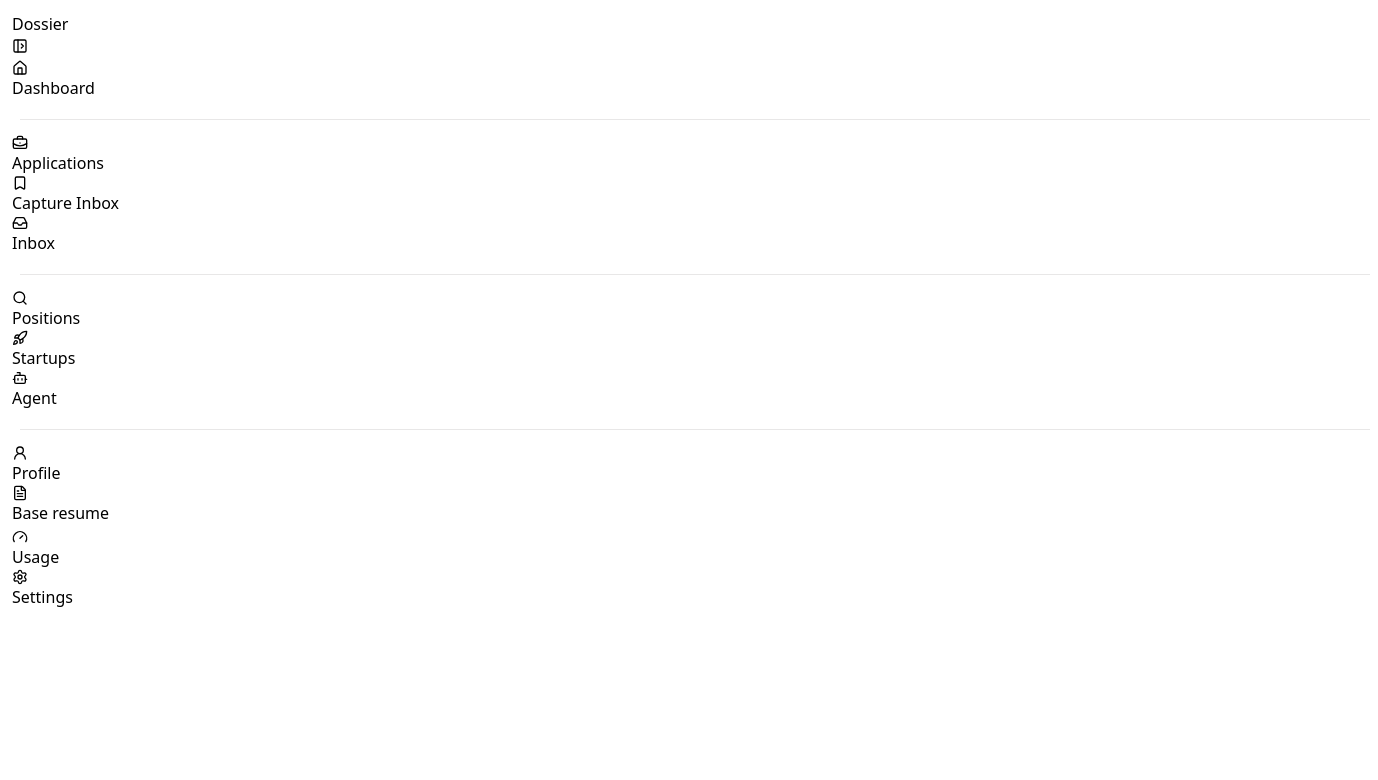
Test case: ThemeToggle › on an application's screen (E27-8) › keeps its own choice: opening it there leaves the other pages alone
The image size is (1378, 780).
Step 1. Click the button named "Expand sidebar" → (20, 46), box [12,38,28,54]
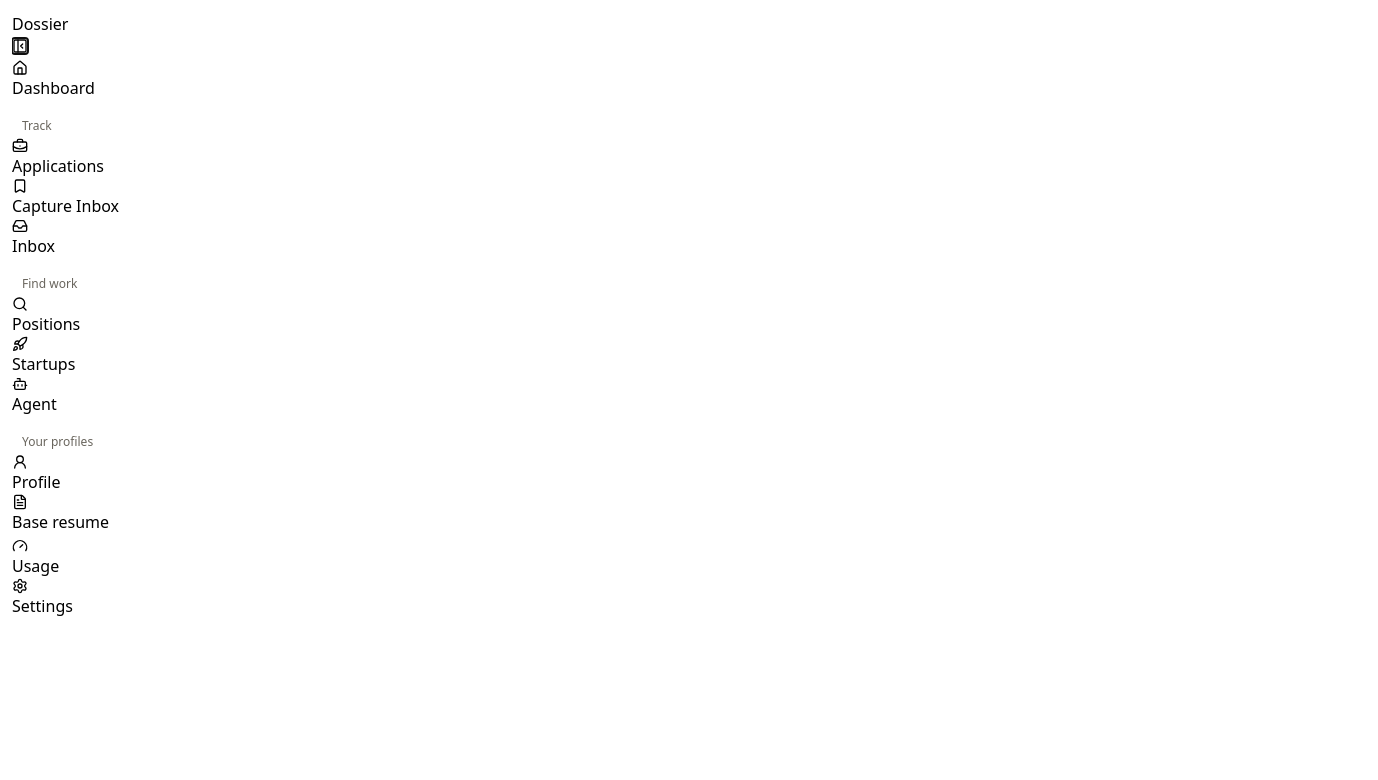
Expected: the element named "Sidebar" does not have attribute data-collapsed, [12,13,119,617]
